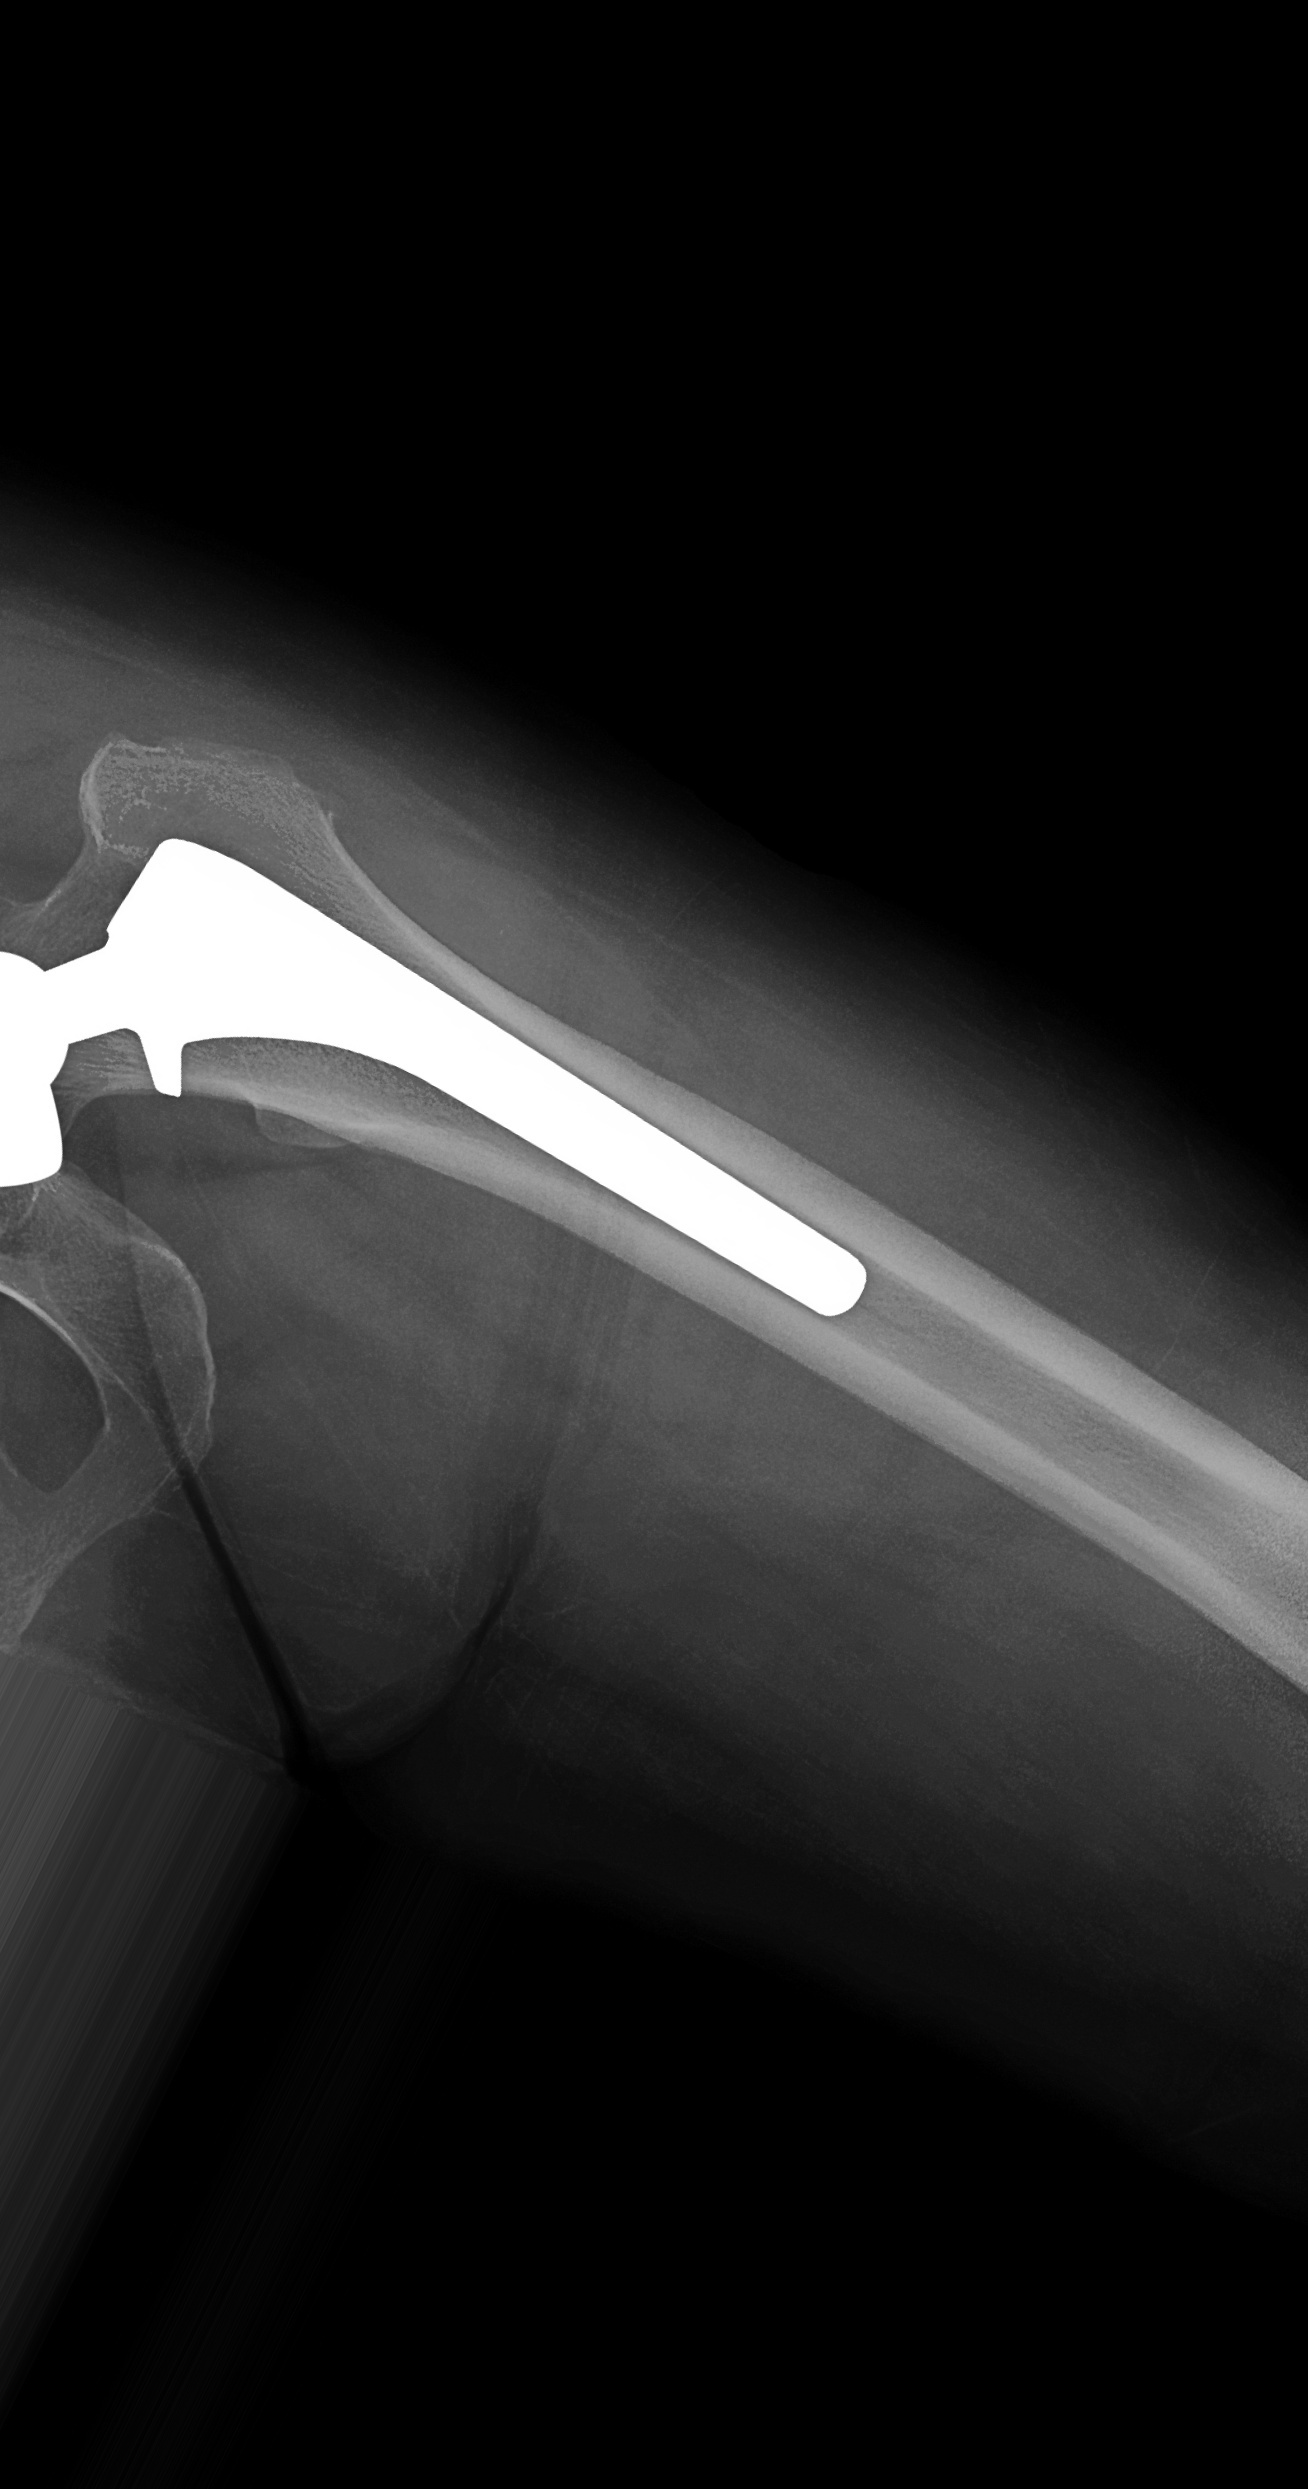Hip - APR - Zimmer: (3, 821, 884, 1376)
